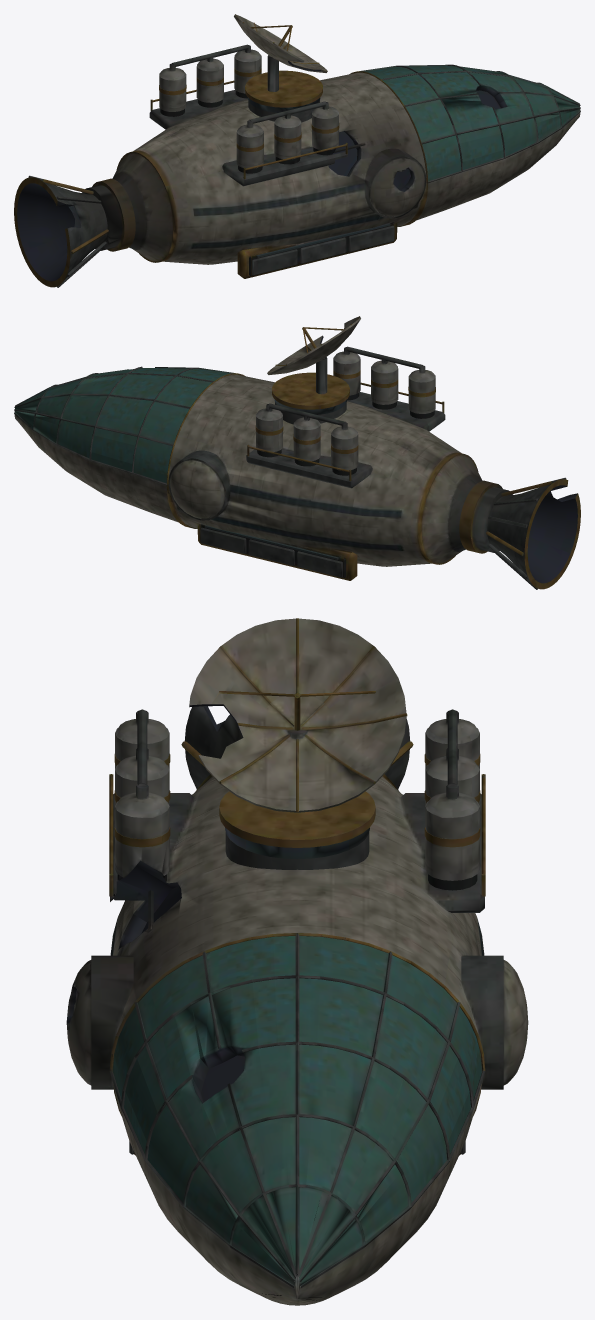
Rendered from seed-wrecked.glb.
3 views of the same model, one above another, from view 1: azimuth 30°, elevation 25°; view 2: azimuth 150°, elevation 25°; view 3: azimuth 270°, elevation 25° (orthographic). The views are drawn at different scales.
Parts seen in each view (by area): view 1: seed-wrecked; view 2: seed-wrecked; view 3: seed-wrecked.
Boxes of the visible parts, x1=… form: seed-wrecked: x1=14, y1=14, x2=580, y2=287; seed-wrecked: x1=14, y1=316, x2=580, y2=589; seed-wrecked: x1=66, y1=618, x2=528, y2=1305.
Bounding box in the file's own units: 1 × 0.4107 × 0.3716.
1 material, 1 textured.
